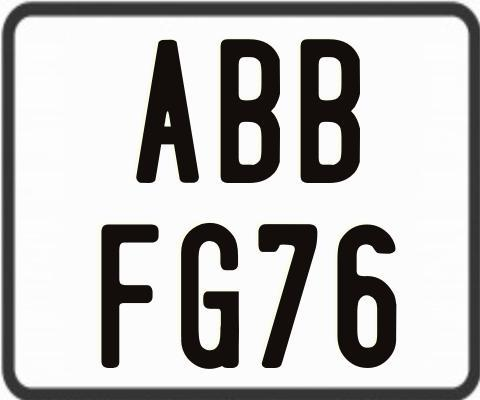6: (334, 223, 395, 371)
7: (255, 223, 318, 373)
A: (135, 37, 200, 184)
B: (299, 38, 363, 187), (219, 39, 280, 187)
F: (100, 222, 162, 367)
G: (179, 221, 243, 370)
